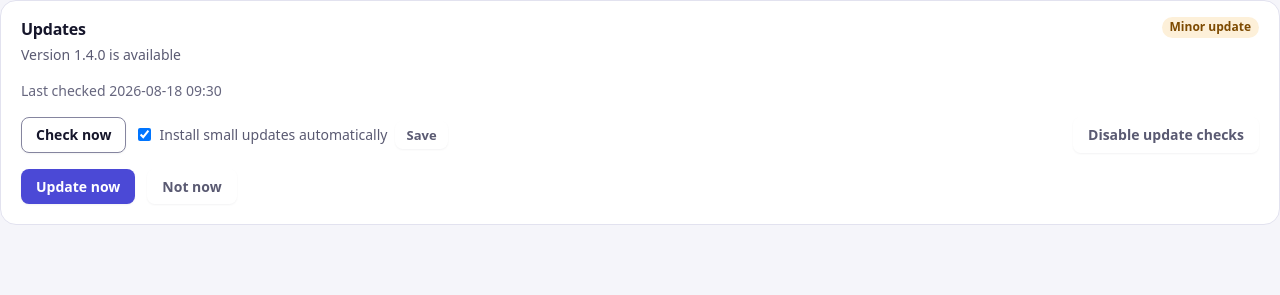
Test: item M-3: the other four update actions also hand back what they just wrote › Not now hides the offer with NO prop change
The image size is (1280, 295).
What coordinates should you click on to do the following:
click the button "Not now"
I would click on:
 (192, 186)
Its box is [147,168,237,204].
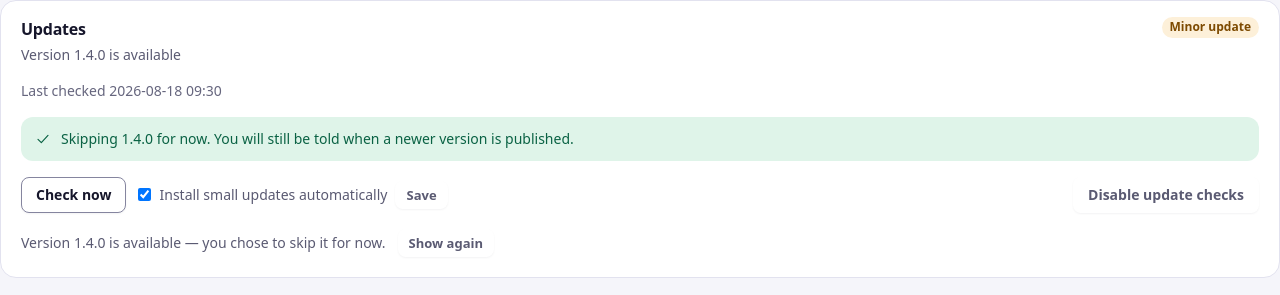
Now the button "Show again" is shown, box [398,228,494,257]
Now the button "Not now" is gone
Now the button "Update now" is gone
